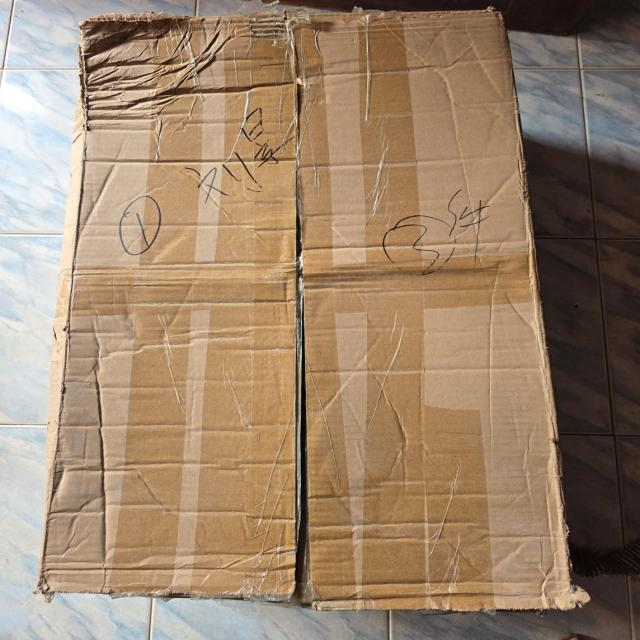carton_box: (31, 3, 612, 634)
package_damage: (258, 8, 338, 640), (65, 0, 248, 116), (538, 503, 614, 618)
